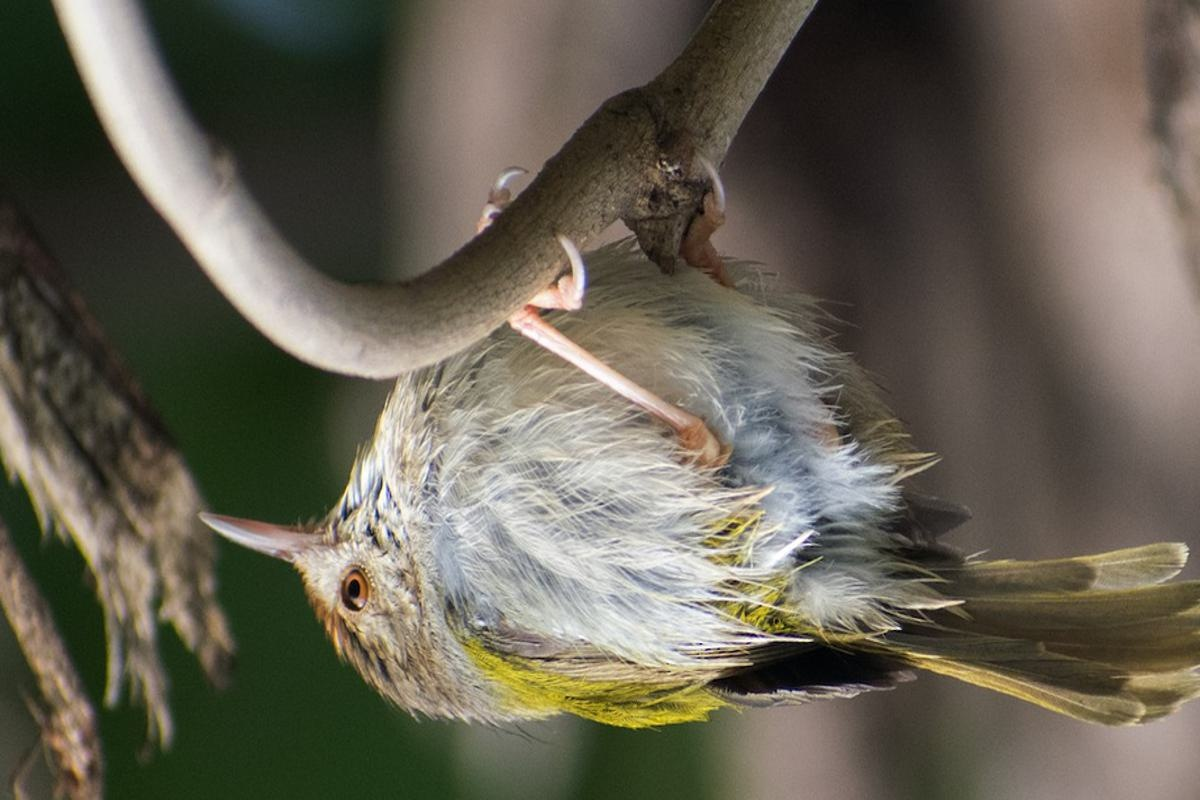tailorbird: (181, 146, 1115, 724)
